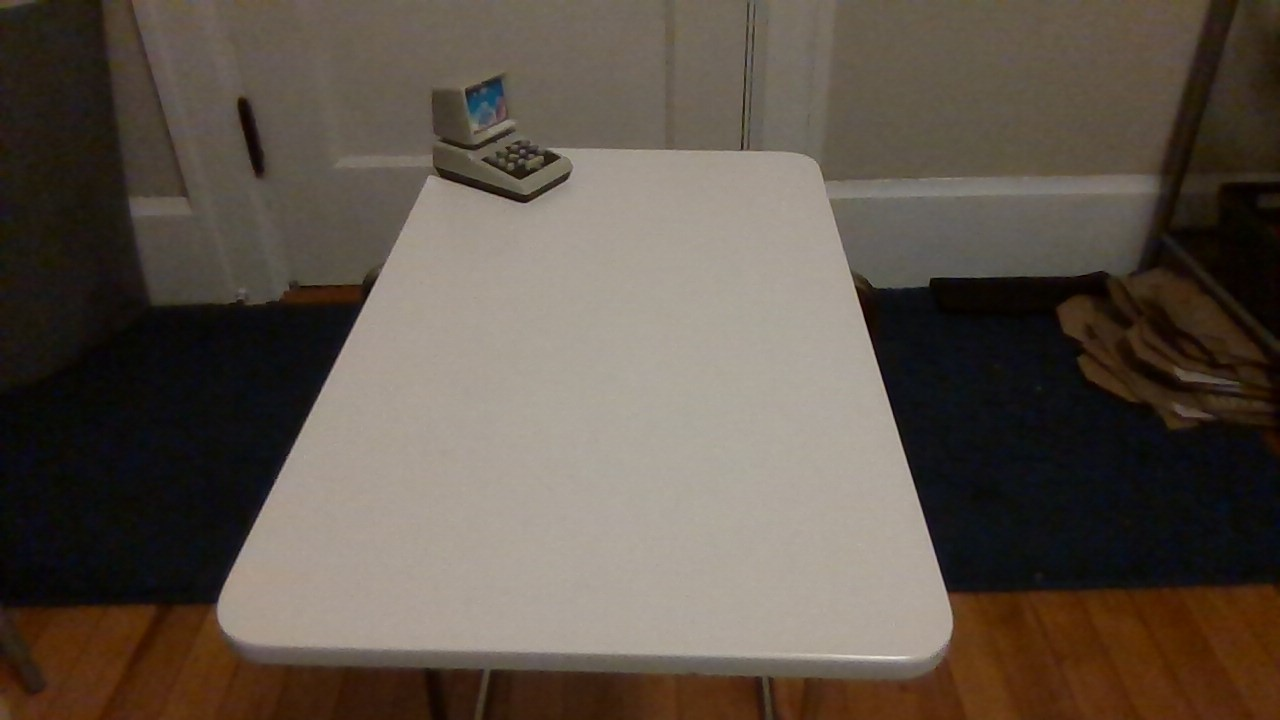Toy: (413, 63, 580, 207)
